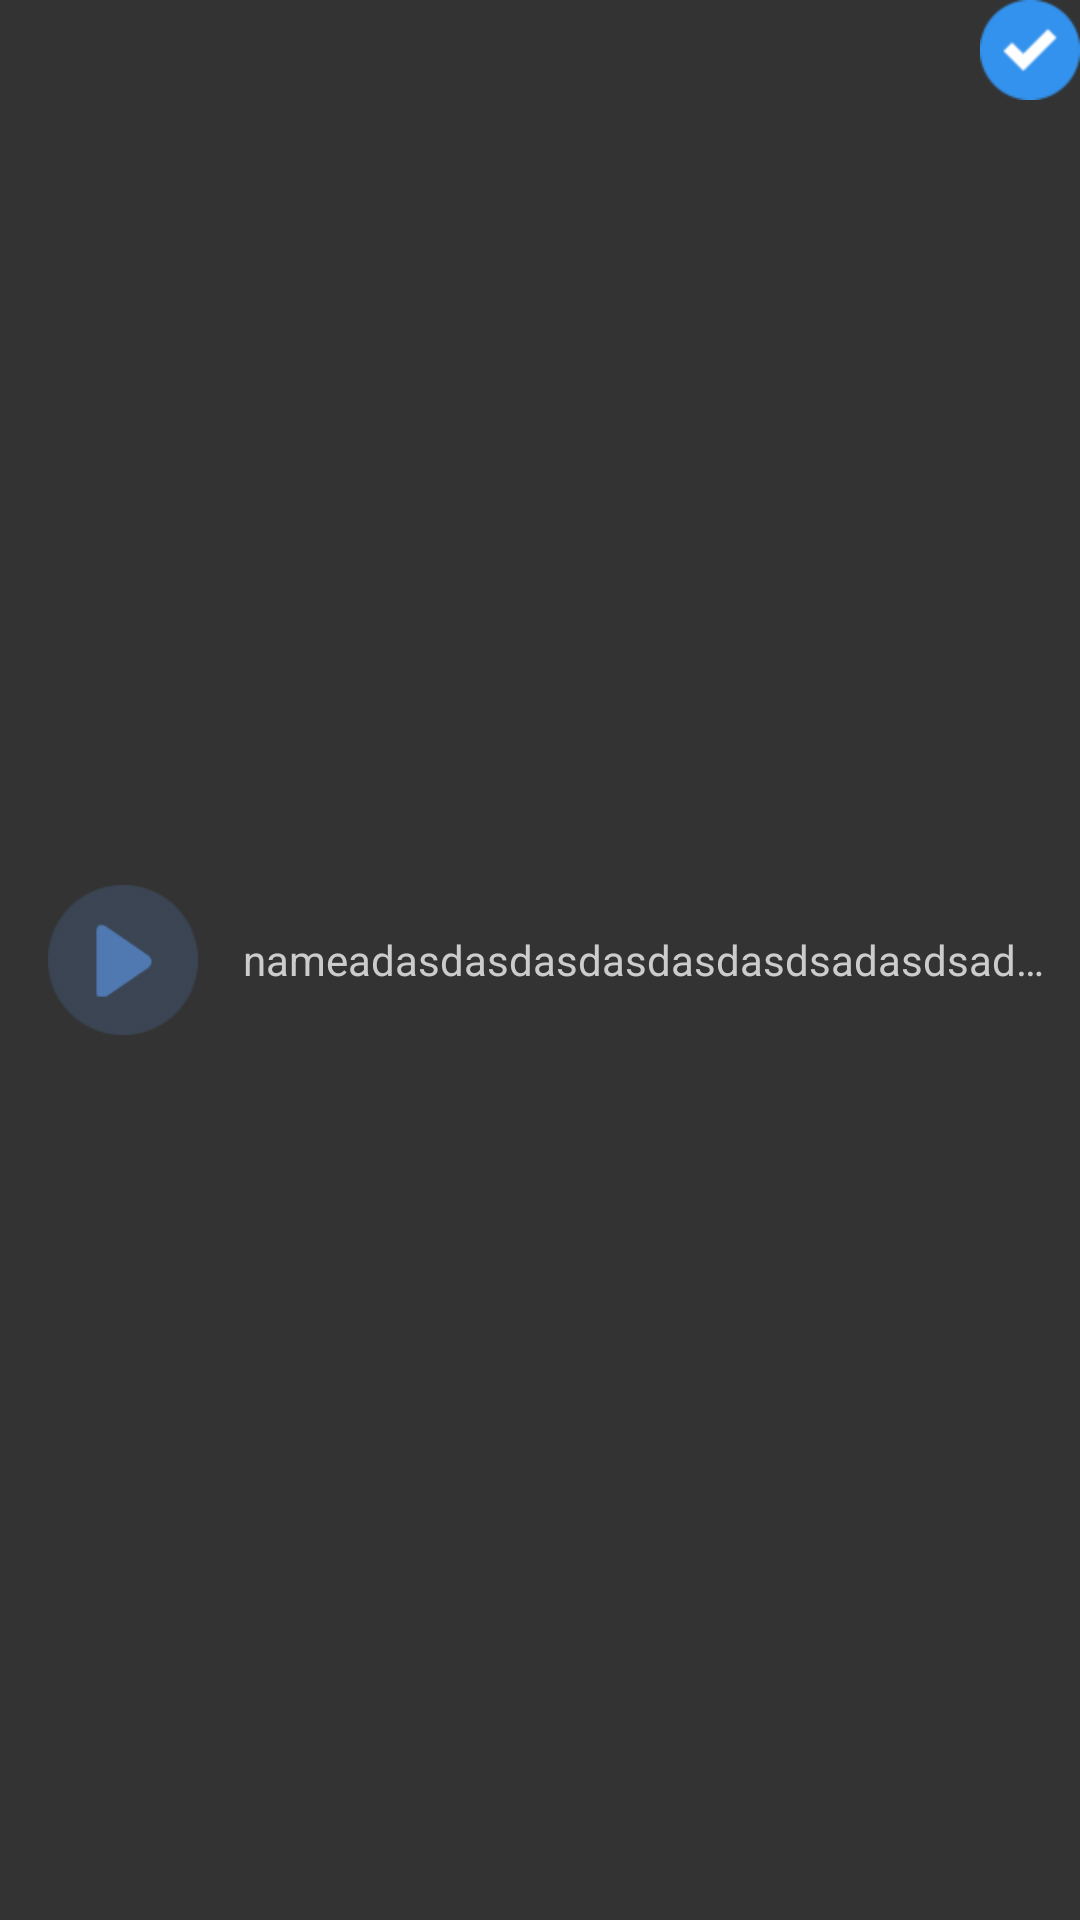

Icon click points for this 1080*1920 phone screenshot, format point (x, y):
play: point (123, 960)
tick: point (1030, 50)
